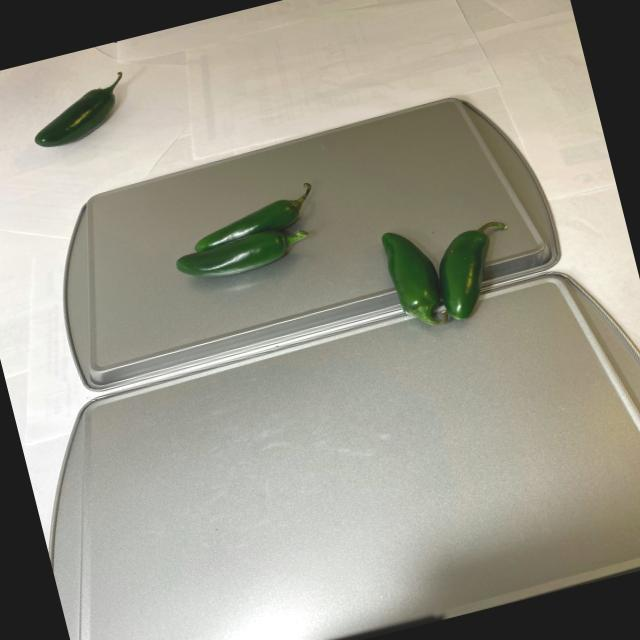chilli: (370, 200, 531, 346), (160, 178, 334, 290), (12, 64, 150, 165)
